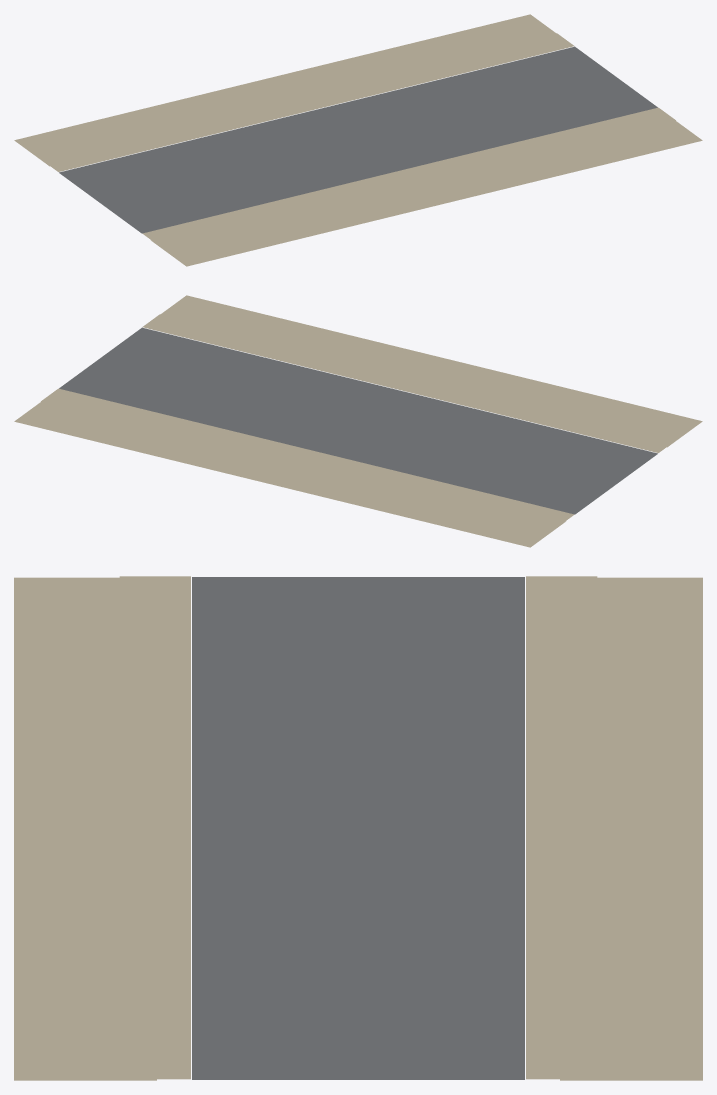
File: ROAD_COASTAL_001_LOD_MAP.glb
3 renders of one model, top to bottom at view 1: azimuth 30°, elevation 25°; view 2: azimuth 150°, elevation 25°; view 3: azimuth 270°, elevation 25°, orthographic. The views are drawn at different scales.
Visible parts, largest first — view 1: ROAD_SURFACE_COASTAL_001_LOD2_EXPORT, ROAD_SHOULDER_COASTAL_001_02_LOD2_EXPORT, ROAD_SHOULDER_COASTAL_001_01_LOD2_EXPORT, ROAD_EDGE_COASTAL_001_02_LOD2_EXPORT, ROAD_EDGE_COASTAL_001_01_LOD2_EXPORT; view 2: ROAD_SURFACE_COASTAL_001_LOD2_EXPORT, ROAD_SHOULDER_COASTAL_001_01_LOD2_EXPORT, ROAD_SHOULDER_COASTAL_001_02_LOD2_EXPORT, ROAD_EDGE_COASTAL_001_01_LOD2_EXPORT, ROAD_EDGE_COASTAL_001_02_LOD2_EXPORT; view 3: ROAD_SURFACE_COASTAL_001_LOD2_EXPORT, ROAD_SHOULDER_COASTAL_001_01_LOD2_EXPORT, ROAD_SHOULDER_COASTAL_001_02_LOD2_EXPORT, ROAD_EDGE_COASTAL_001_01_LOD2_EXPORT, ROAD_EDGE_COASTAL_001_02_LOD2_EXPORT.
Part boxes in pixels (bbox=[...]): ROAD_SURFACE_COASTAL_001_LOD2_EXPORT: bbox=[59, 46, 657, 233]; ROAD_SHOULDER_COASTAL_001_02_LOD2_EXPORT: bbox=[151, 121, 702, 266]; ROAD_SHOULDER_COASTAL_001_01_LOD2_EXPORT: bbox=[14, 14, 555, 166]; ROAD_EDGE_COASTAL_001_02_LOD2_EXPORT: bbox=[142, 107, 675, 246]; ROAD_EDGE_COASTAL_001_01_LOD2_EXPORT: bbox=[41, 33, 574, 171]; ROAD_SURFACE_COASTAL_001_LOD2_EXPORT: bbox=[59, 327, 657, 514]; ROAD_SHOULDER_COASTAL_001_01_LOD2_EXPORT: bbox=[14, 402, 565, 547]; ROAD_SHOULDER_COASTAL_001_02_LOD2_EXPORT: bbox=[161, 295, 702, 447]; ROAD_EDGE_COASTAL_001_01_LOD2_EXPORT: bbox=[41, 388, 574, 527]; ROAD_EDGE_COASTAL_001_02_LOD2_EXPORT: bbox=[142, 314, 675, 452]; ROAD_SURFACE_COASTAL_001_LOD2_EXPORT: bbox=[192, 577, 524, 1079]; ROAD_SHOULDER_COASTAL_001_01_LOD2_EXPORT: bbox=[560, 577, 702, 1080]; ROAD_SHOULDER_COASTAL_001_02_LOD2_EXPORT: bbox=[14, 577, 156, 1080]; ROAD_EDGE_COASTAL_001_01_LOD2_EXPORT: bbox=[526, 576, 597, 1079]; ROAD_EDGE_COASTAL_001_02_LOD2_EXPORT: bbox=[119, 576, 190, 1079].
Size of the model in its own units: 3.4 by 0.004 by 1.97.
